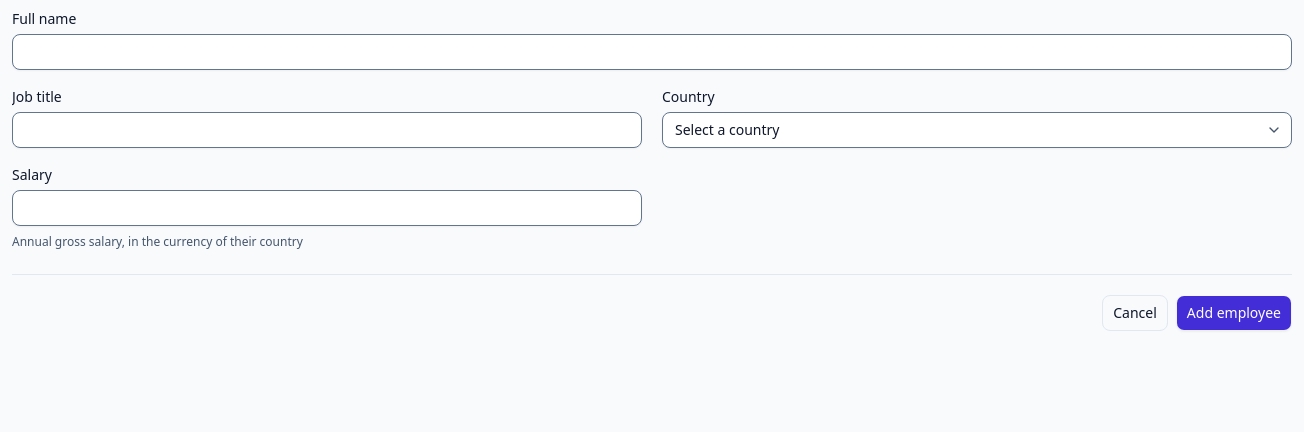
EmployeeForm › shows an error beside every field, and does not submit, when submitted blank
Click the button "Add employee": (1234,313) x1=1176 y1=295 x2=1292 y2=331
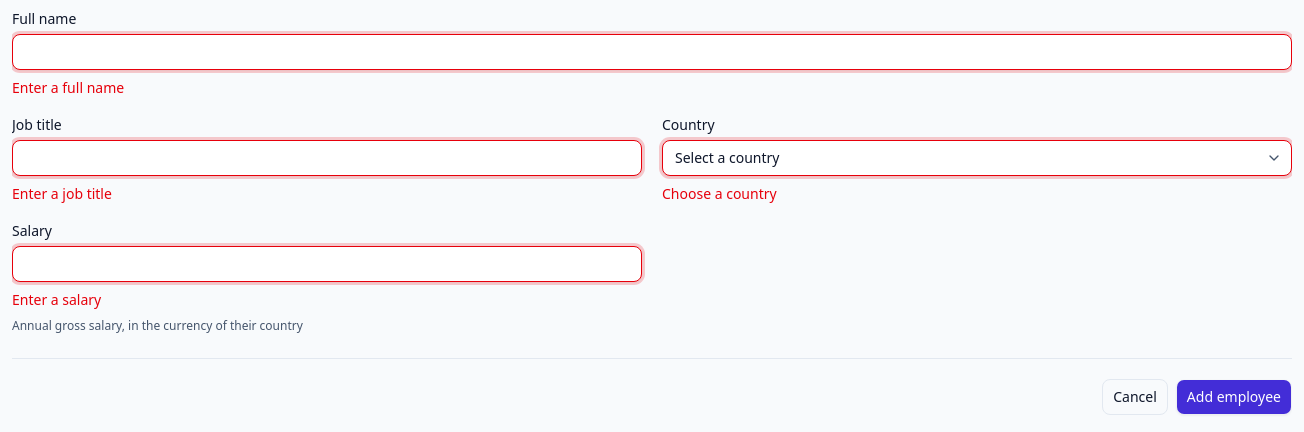
Expected: the text "Enter a full name" is shown, x1=12 y1=78 x2=124 y2=97
Expected: the text "Enter a job title" is shown, x1=12 y1=184 x2=112 y2=203
Expected: the text "Choose a country" is shown, x1=662 y1=184 x2=777 y2=203
